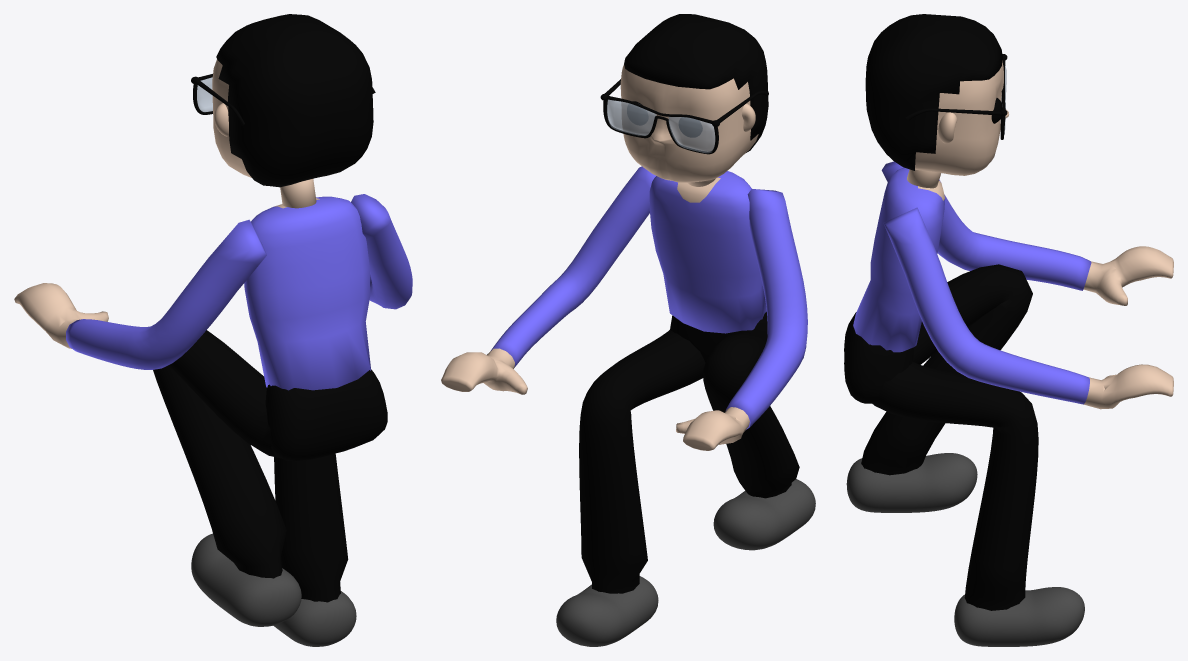
File: TimPlayer.fbx
The picture shows the model from 3 angles, left to right: view 1: azimuth 30°, elevation 25°; view 2: azimuth 150°, elevation 25°; view 3: azimuth 270°, elevation 25°; orthographic projection. The views are drawn at different scales.
Visible parts, largest first — view 1: Sphere.001, Cube.001, BézierCurve.031, NurbsPath.002, BézierCurve.030, Cube.014, BézierCurve.028, NurbsPath.003, BézierCurve.029, NurbsPath.001, Sphere.004, Cylinder.056 (+1 smaller); view 2: BézierCurve.030, Cube.001, Sphere.004, NurbsPath.002, Sphere.001, NurbsPath.003, BézierCurve.031, BézierCurve.028, BézierCurve.029, NurbsPath, NurbsPath.001, BézierCircle.004 (+3 smaller); view 3: BézierCurve.030, Sphere.001, NurbsPath.003, BézierCurve.031, Cube.001, BézierCurve.028, Sphere.004, BézierCurve.029, NurbsPath.002, Cube.014, NurbsPath.001, NurbsPath (+2 smaller).
Boxes of the visible parts, <box> form: Sphere.001: <box>216,14,373,187</box>; Cube.001: <box>244,196,370,390</box>; BézierCurve.031: <box>153,330,286,578</box>; NurbsPath.002: <box>66,219,266,369</box>; BézierCurve.030: <box>274,453,348,602</box>; Cube.014: <box>265,369,387,461</box>; BézierCurve.028: <box>191,533,301,626</box>; NurbsPath.003: <box>351,194,412,309</box>; BézierCurve.029: <box>273,591,356,646</box>; NurbsPath.001: <box>14,283,108,348</box>; Sphere.004: <box>212,59,251,177</box>; Cylinder.056: <box>280,179,316,208</box>; BézierCurve.030: <box>579,329,705,593</box>; Cube.001: <box>649,171,766,333</box>; Sphere.004: <box>620,65,758,182</box>; NurbsPath.002: <box>725,189,807,429</box>; Sphere.001: <box>624,14,768,152</box>; NurbsPath.003: <box>491,166,655,367</box>; BézierCurve.031: <box>703,333,799,498</box>; BézierCurve.028: <box>713,479,815,550</box>; BézierCurve.029: <box>556,576,658,646</box>; NurbsPath: <box>441,348,527,394</box>; NurbsPath.001: <box>676,407,749,450</box>; BézierCircle.004: <box>600,79,768,154</box>; BézierCurve.030: <box>872,361,1038,610</box>; Sphere.001: <box>865,14,1002,170</box>; NurbsPath.003: <box>883,207,1089,404</box>; BézierCurve.031: <box>861,264,1032,475</box>; Cube.001: <box>853,167,945,352</box>; BézierCurve.028: <box>846,453,977,512</box>; Sphere.004: <box>915,60,1008,175</box>; BézierCurve.029: <box>954,587,1084,646</box>; NurbsPath.002: <box>881,161,1091,290</box>; Cube.014: <box>844,312,913,403</box>; NurbsPath.001: <box>1083,246,1173,305</box>; NurbsPath: <box>1084,364,1173,409</box>.
Size of the model in its own units: 384 by 769 by 386.
